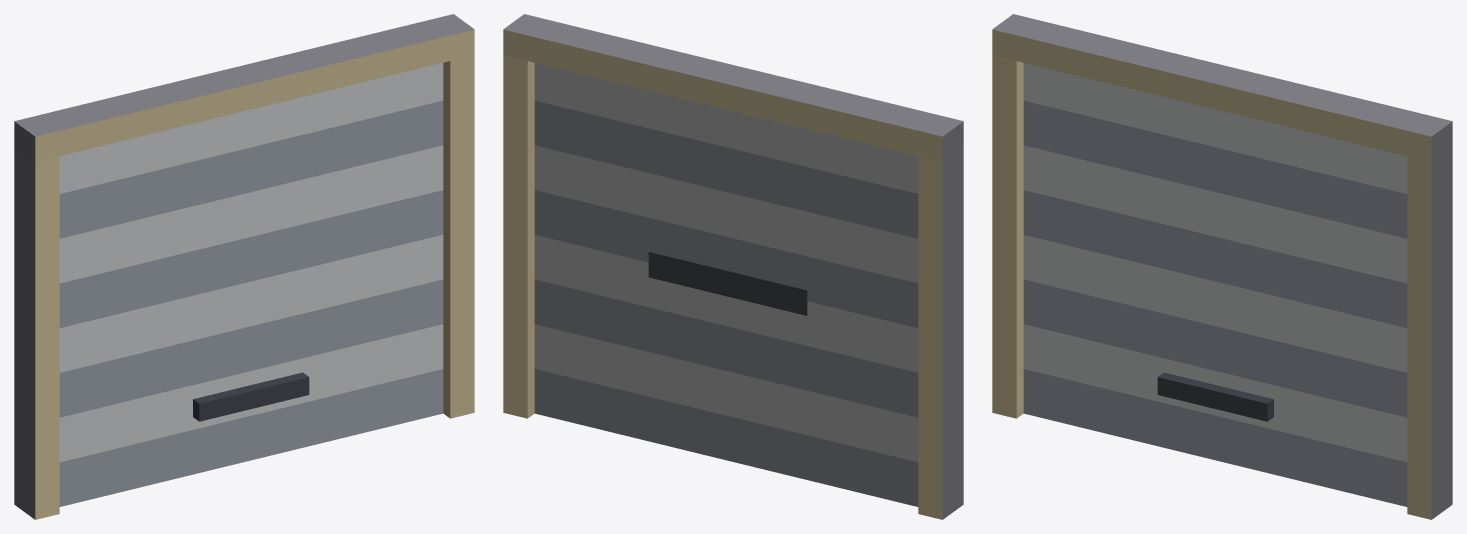
The model's file is prop_garagedoor.glb.
3 renders of one model, left to right at view 1: azimuth 30°, elevation 25°; view 2: azimuth 150°, elevation 25°; view 3: azimuth 330°, elevation 25°, orthographic.
Visible parts, largest first — view 1: prop_garagedoor; view 2: prop_garagedoor; view 3: prop_garagedoor.
Boxes of the visible parts, x1,y1,x2,y2 form: prop_garagedoor: [14, 14, 474, 519]; prop_garagedoor: [503, 14, 963, 519]; prop_garagedoor: [992, 14, 1452, 519].
Size of the model in its own units: 3.6 by 3 by 0.3.
